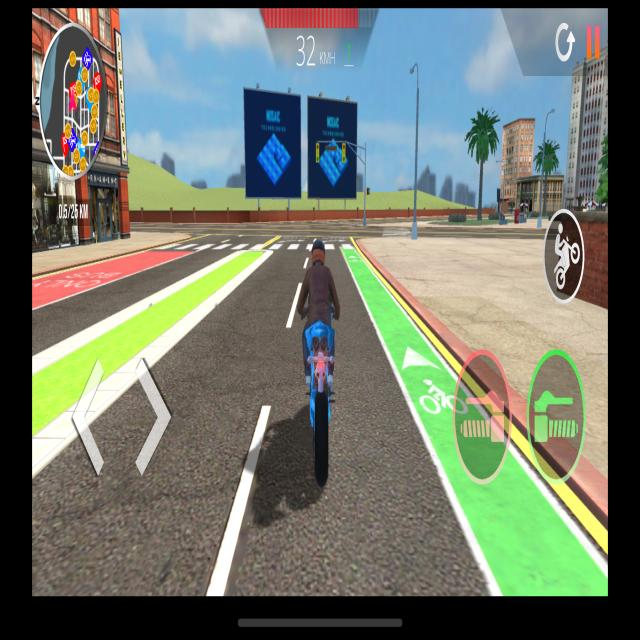billboard: (243, 80, 303, 206), (305, 89, 361, 209)
